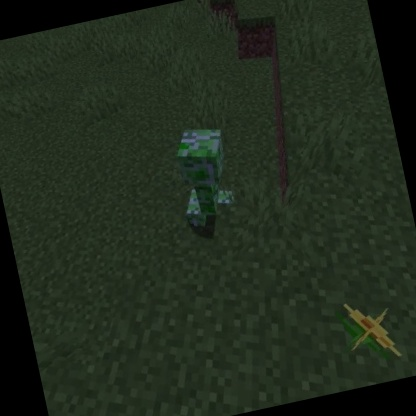creeper: (166, 118, 243, 234)
